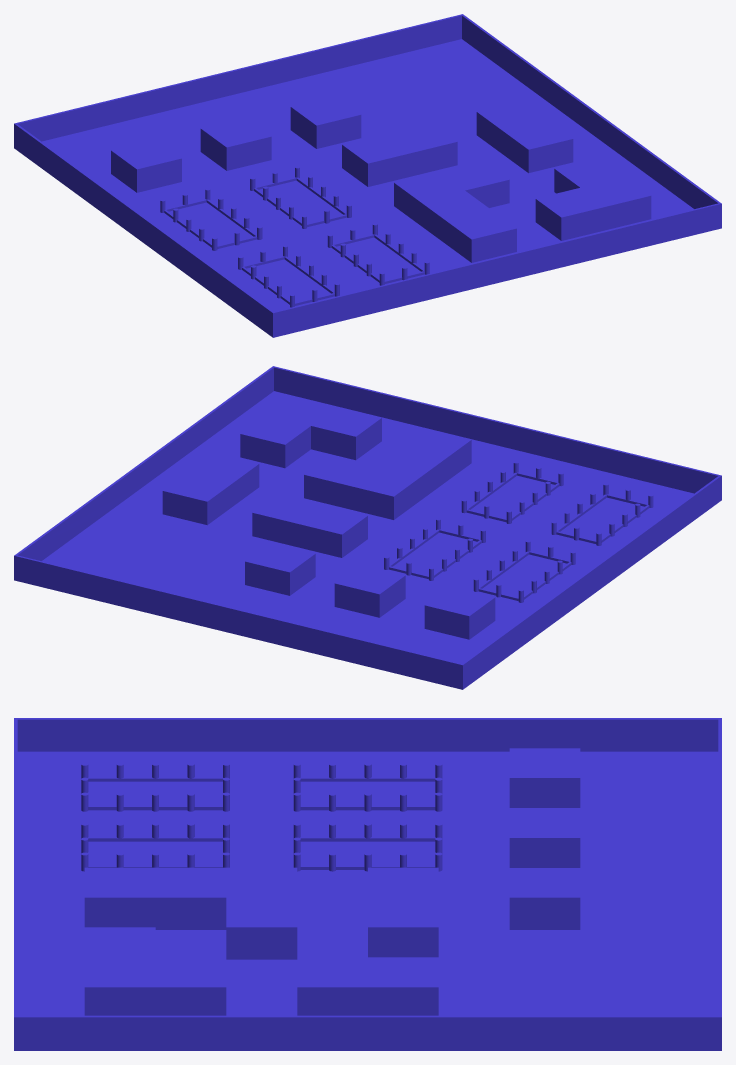
The model's file is polygun.dae.
The picture shows the model from 3 angles, top to bottom: view 1: azimuth 30°, elevation 25°; view 2: azimuth 150°, elevation 25°; view 3: azimuth 270°, elevation 25°; orthographic projection. The views are drawn at different scales.
Parts seen in each view (by area): view 1: Polygun; view 2: Polygun; view 3: Polygun.
Part boxes in pixels (left/top/right/bottom): Polygun: left=14, top=14, right=721, bottom=337; Polygun: left=14, top=366, right=721, bottom=689; Polygun: left=14, top=718, right=721, bottom=1050.
Size of the model in its own units: 20 by 20 by 1.05.
